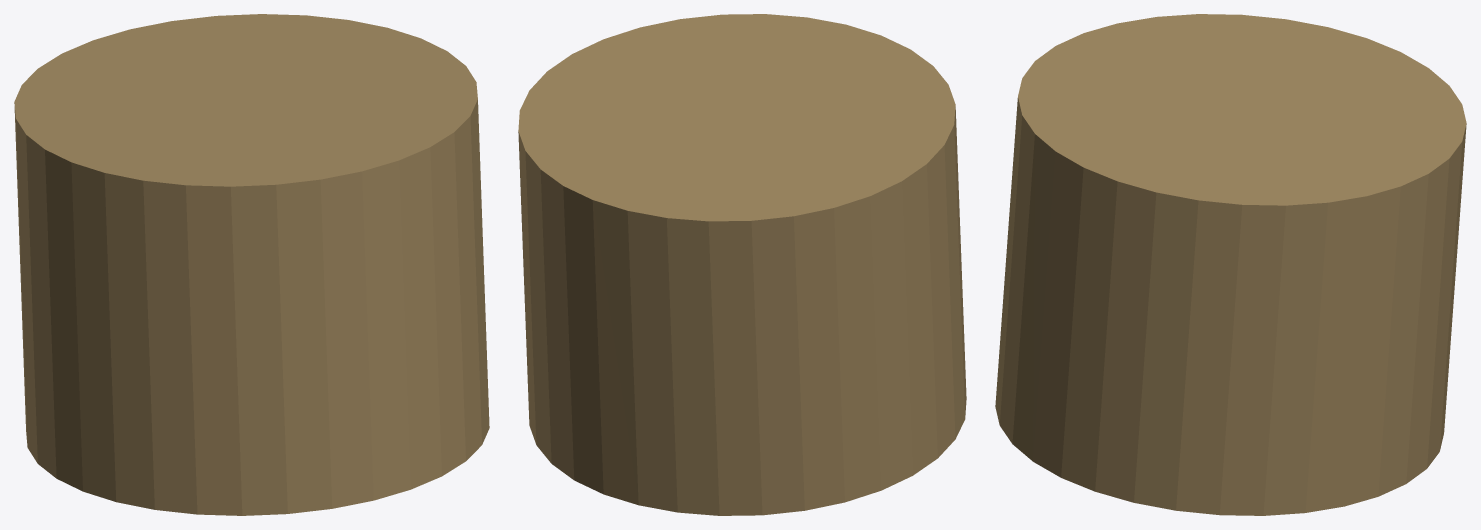
File: Texture.259.dae.light.glb
3 views of the same model, side by side, from view 1: azimuth 30°, elevation 25°; view 2: azimuth 150°, elevation 25°; view 3: azimuth 270°, elevation 25° (orthographic). The views are drawn at different scales.
Size of the model in its own units: 0.0716 by 0.0592 by 0.075.
